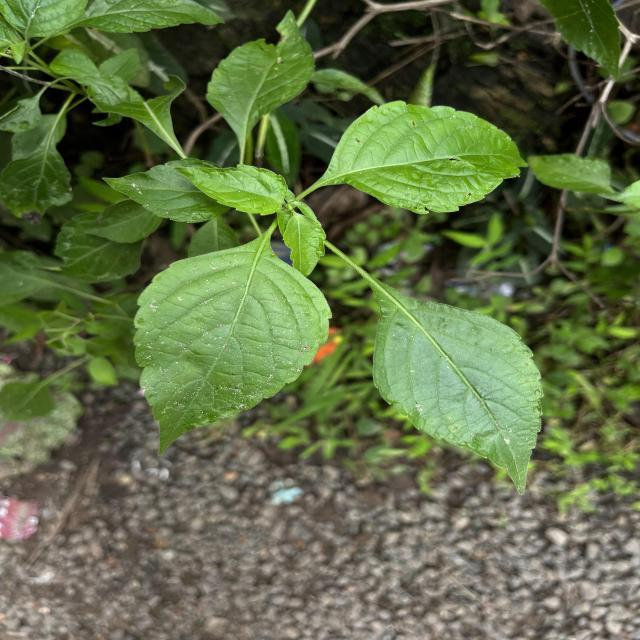Ocimum gratissimum: (347, 257, 547, 497), (130, 231, 337, 458), (302, 96, 532, 218), (202, 8, 320, 172), (100, 155, 236, 225), (171, 160, 294, 218)
